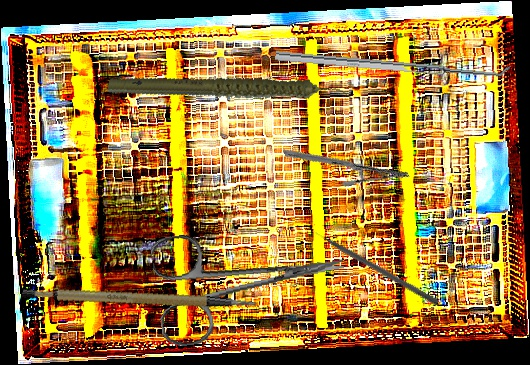Handpiece: (106, 28, 353, 155)
Iris Scissors: (149, 213, 352, 349)
Needle Holder: (282, 113, 411, 215)
Pusher: (306, 224, 440, 306)
Scalpel Handle: (20, 256, 258, 346)
Spatula Surgical: (275, 42, 511, 81)
